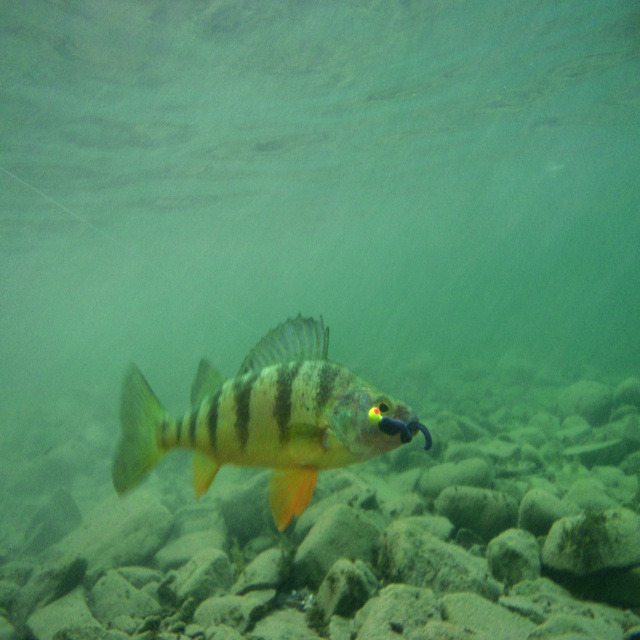Fish: (106, 324, 426, 538)
